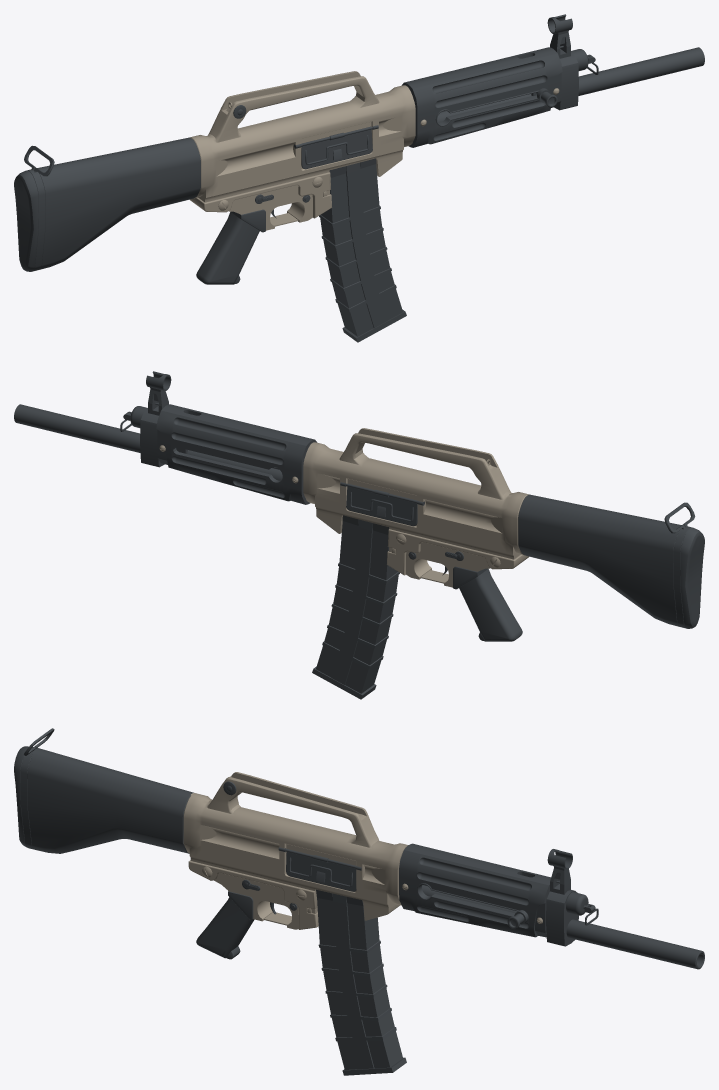
Rendered from USAS-12.fbx.
The picture shows the model from 3 angles, top to bottom: view 1: azimuth 30°, elevation 25°; view 2: azimuth 150°, elevation 25°; view 3: azimuth 330°, elevation 25°; orthographic projection.
Visible parts, largest first — view 1: USAS-12; view 2: USAS-12; view 3: USAS-12.
Part boxes in pixels (x1=…): USAS-12: x1=14, y1=14, x2=704, y2=342; USAS-12: x1=14, y1=371, x2=704, y2=699; USAS-12: x1=14, y1=728, x2=704, y2=1075.
Bounding box in the file's own units: 829 × 315 × 66.23.
